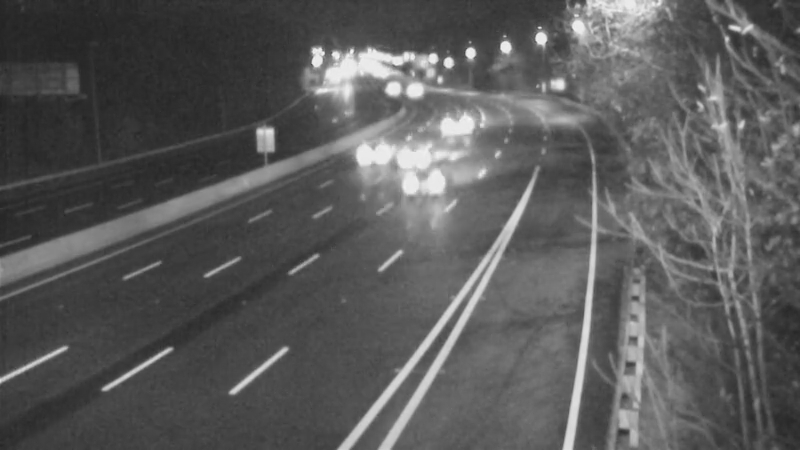vehicle: (371, 117, 451, 197), (393, 139, 473, 219), (391, 64, 441, 114), (359, 58, 409, 108), (432, 95, 482, 145), (347, 125, 397, 175)
